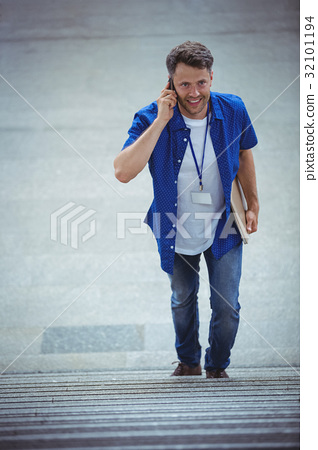phone: (162, 77, 178, 109)
talk: (154, 65, 213, 123)
